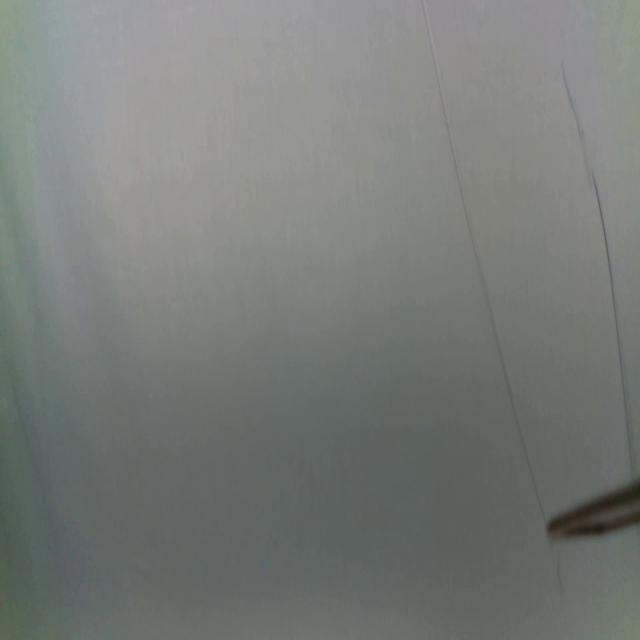crease: (422, 0, 547, 523), (564, 61, 636, 483)
